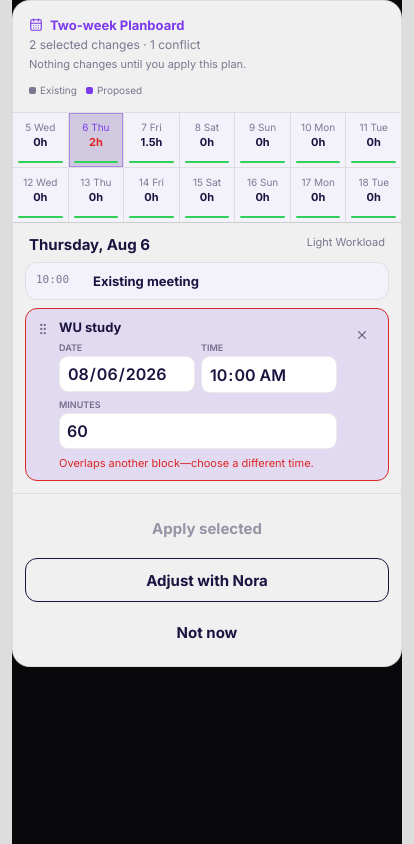
Test: SchedulePlanboard › blocks approval until a detected conflict is edited
Expected: the button "Apply selected" is disabled, [25, 506, 389, 550]
Replace the text in the time field labelled "Time" with "12:00" at (269, 375), box [201, 356, 337, 393]
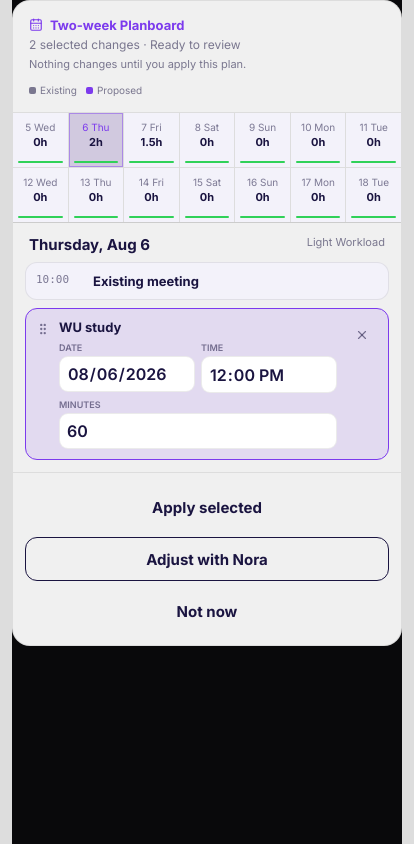
Now the button "Apply selected" is enabled, box [25, 485, 389, 529]
